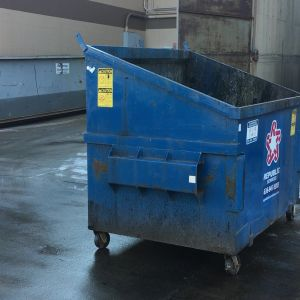Dumpster: (74, 30, 300, 277)
